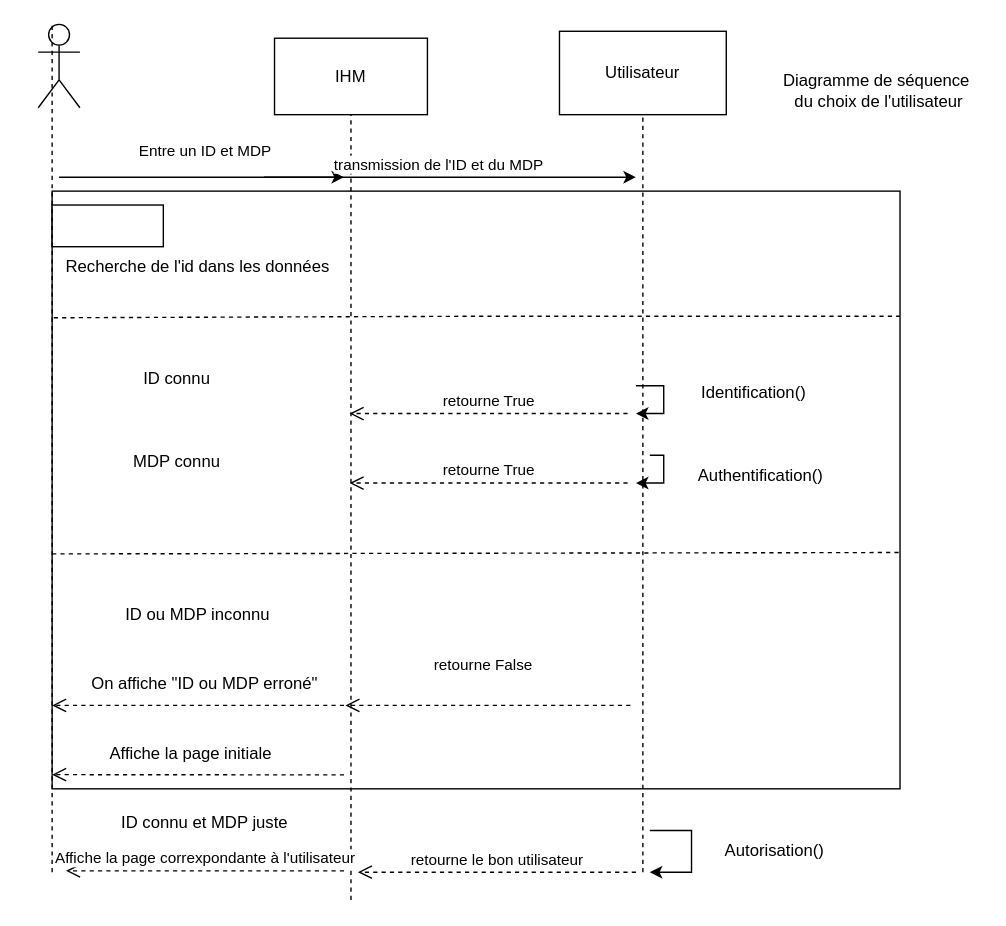
This 1006x926 diagram has some shape labels left out. Each missing label, with the box of its shape:
alternatif: (51, 204, 163, 247)
Visiteur: (37, 23, 80, 108)
